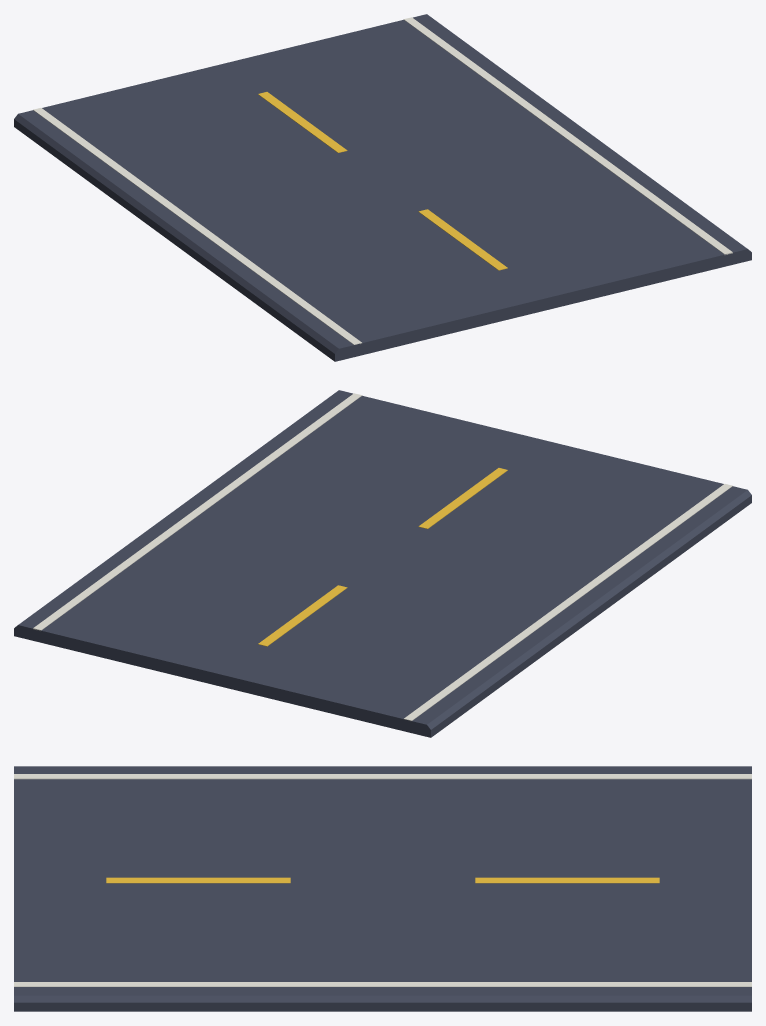
File: RoadStreet.fbx
3 views of the same model, one above another, from view 1: azimuth 30°, elevation 25°; view 2: azimuth 150°, elevation 25°; view 3: azimuth 270°, elevation 25° (orthographic). The views are drawn at different scales.
Parts seen in each view (by area): view 1: RoadStreet_Asphalt, RoadStreet_LineWhite, RoadStreet_LineYellow; view 2: RoadStreet_Asphalt, RoadStreet_LineWhite, RoadStreet_LineYellow; view 3: RoadStreet_Asphalt, RoadStreet_LineWhite, RoadStreet_LineYellow.
Boxes of the visible parts, bbox=[...] form: RoadStreet_Asphalt: bbox=[14, 14, 751, 361]; RoadStreet_LineWhite: bbox=[33, 17, 732, 344]; RoadStreet_LineYellow: bbox=[258, 92, 507, 270]; RoadStreet_Asphalt: bbox=[14, 390, 751, 737]; RoadStreet_LineWhite: bbox=[33, 393, 732, 720]; RoadStreet_LineYellow: bbox=[258, 468, 507, 646]; RoadStreet_Asphalt: bbox=[14, 766, 751, 1011]; RoadStreet_LineWhite: bbox=[14, 774, 751, 986]; RoadStreet_LineYellow: bbox=[106, 877, 659, 883].
Size of the model in its own units: 36 by 1.04 by 48.
